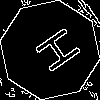H: (25, 25, 83, 81)
